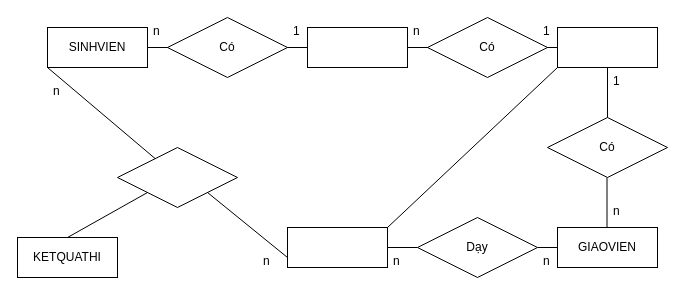
The diagram is 685 pixels wide and 298 high, and some of its shapes have lost their labels. Here are the shapes that lost their labels. From the top down, the centre of each, then its label:
(357,47): LOP
(607,47): KHOA
(177,177): Thi
(337,247): HOCPHAN
